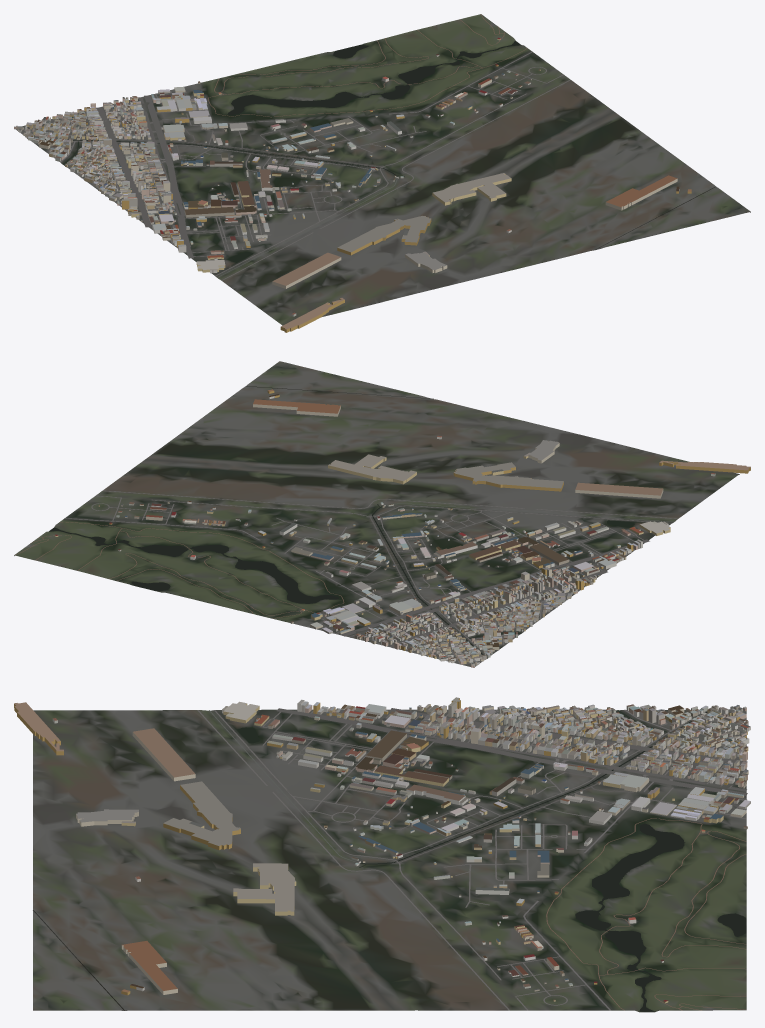
3 renders of one model, top to bottom at view 1: azimuth 30°, elevation 25°; view 2: azimuth 150°, elevation 25°; view 3: azimuth 270°, elevation 25°, orthographic. The views are drawn at different scales.
Visible parts, largest first — view 1: ground, buildings, roads, water; view 2: ground, buildings, roads, water; view 3: ground, buildings, roads, water.
Boxes of the visible parts, x1,y1,x2,y2 form: ground: [14, 14, 750, 325]; buildings: [14, 37, 691, 332]; roads: [24, 14, 570, 280]; water: [45, 40, 716, 277]; ground: [14, 361, 739, 667]; buildings: [55, 389, 750, 667]; roads: [15, 490, 677, 664]; water: [49, 386, 673, 658]; ground: [33, 709, 746, 1012]; buildings: [14, 697, 750, 1003]; roads: [197, 708, 747, 1010]; water: [33, 710, 745, 1011].
Size of the model in its own units: 1424 by 31.79 by 1447.
